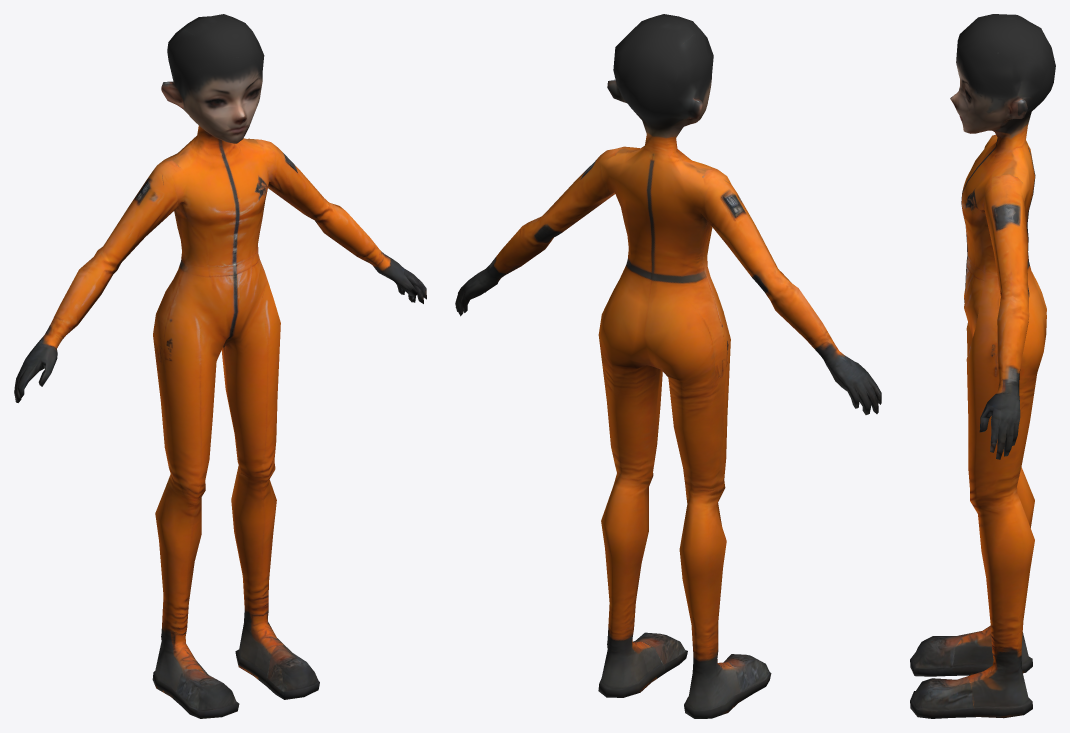
Rendered from bxprisionero1final.fbx.
The picture shows the model from 3 angles, left to right: view 1: azimuth 30°, elevation 25°; view 2: azimuth 150°, elevation 25°; view 3: azimuth 270°, elevation 25°; orthographic projection. The views are drawn at different scales.
Parts seen in each view (by area): view 1: Mesh_0; view 2: Mesh_0; view 3: Mesh_0.
Part boxes in pixels (<box>): Mesh_0: <box>14,14,426,718</box>; Mesh_0: <box>455,14,881,718</box>; Mesh_0: <box>910,14,1055,718</box>.
Bounding box in the file's own units: 131 × 200 × 39.6.
1 material, 1 textured.
